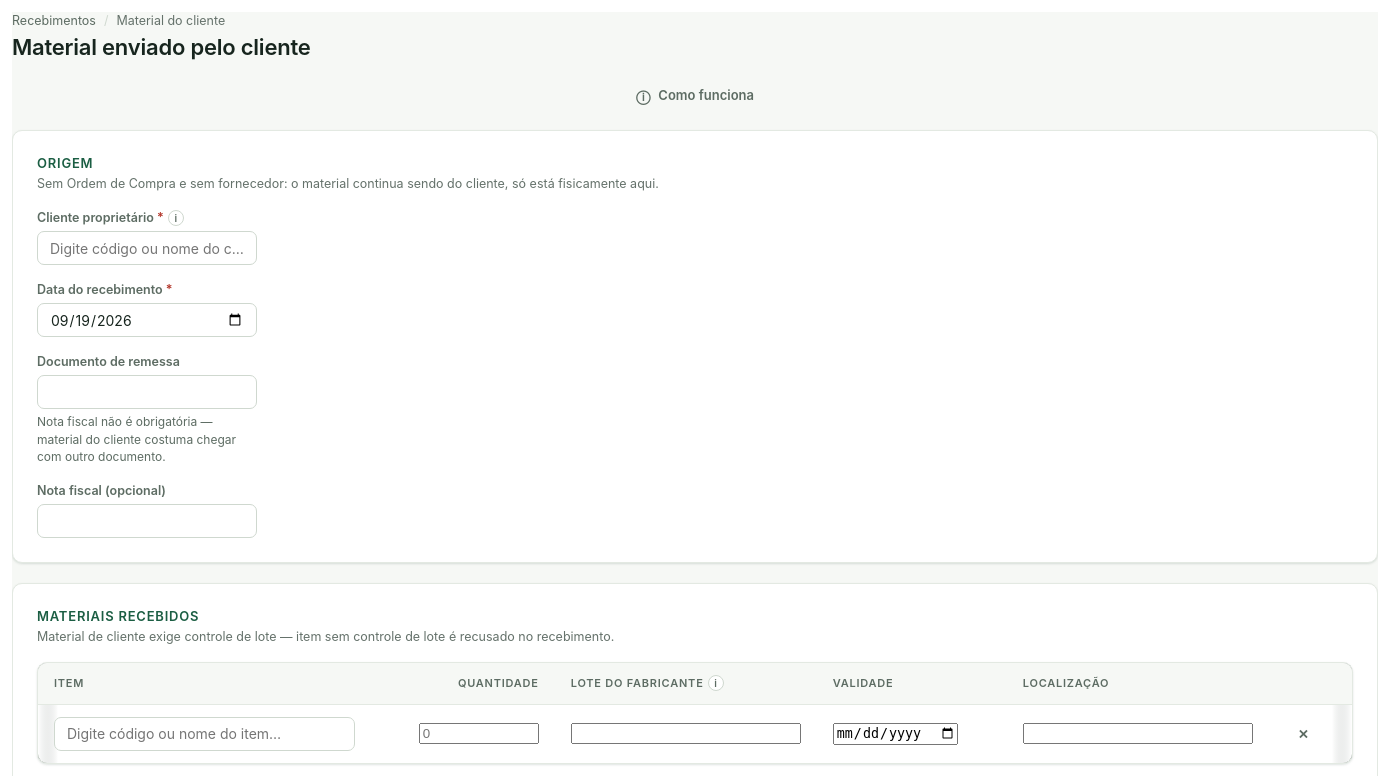
Scenario: Material do cliente — seletor de item com busca no servidor › abre com a primeira página do servidor — 20, dos dois tipos — e diz que o resto se alcança buscando
Focus the dropdown named "Item recebido": (205, 734) [54,717,355,751]
(page scrolled)
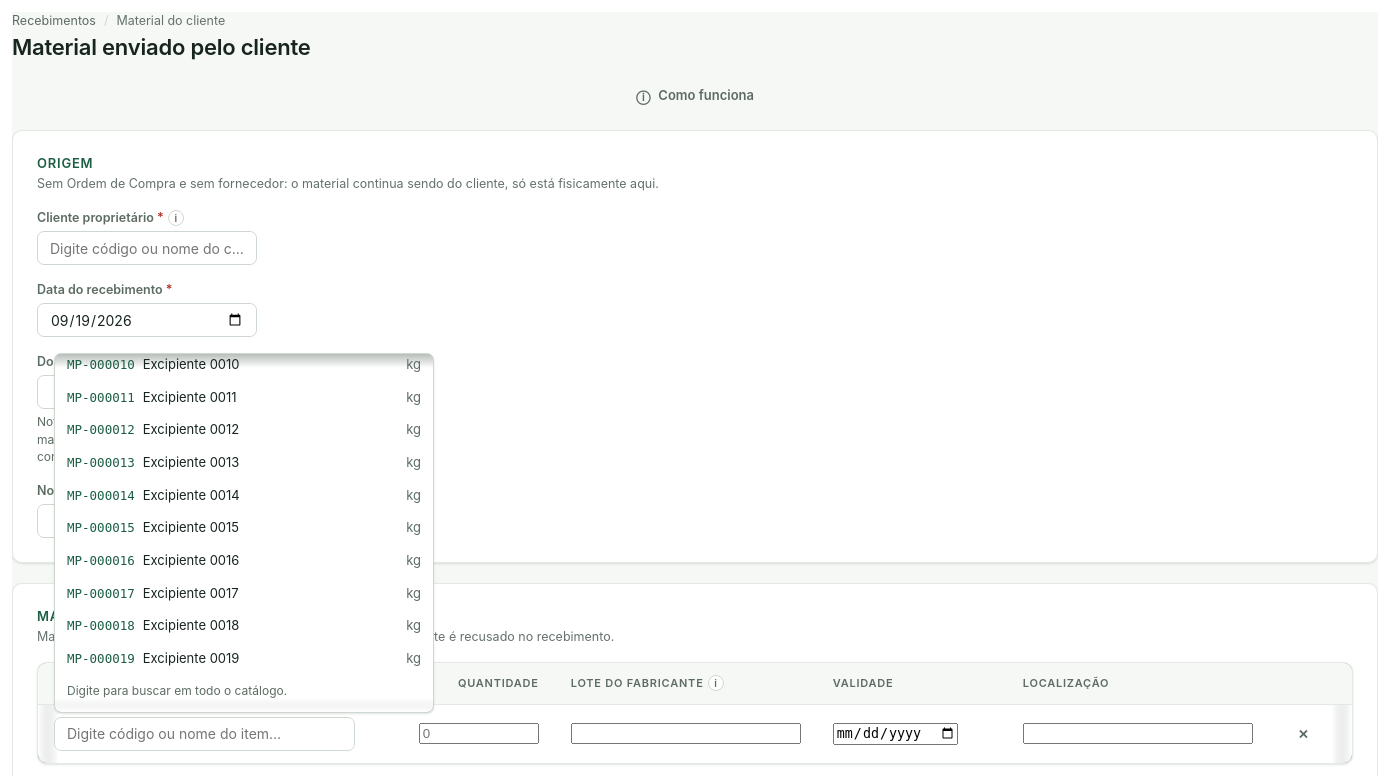
Expected: the list item "Digite para buscar em todo o catálogo." is shown, [67,684,287,698]
